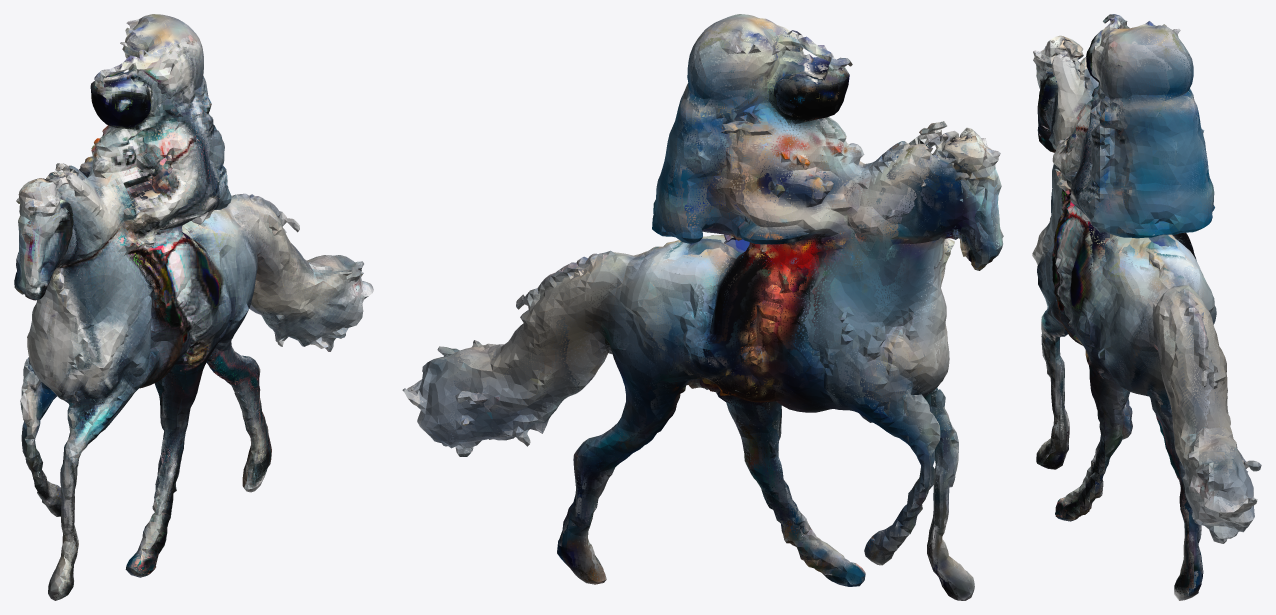
File: astronaut_007.glb
The picture shows the model from 3 angles, left to right: view 1: azimuth 30°, elevation 25°; view 2: azimuth 150°, elevation 25°; view 3: azimuth 270°, elevation 25°; orthographic projection. The views are drawn at different scales.
Bounding box in the file's own units: 1.24 × 1.39 × 0.5551.
1 material, 1 textured.
